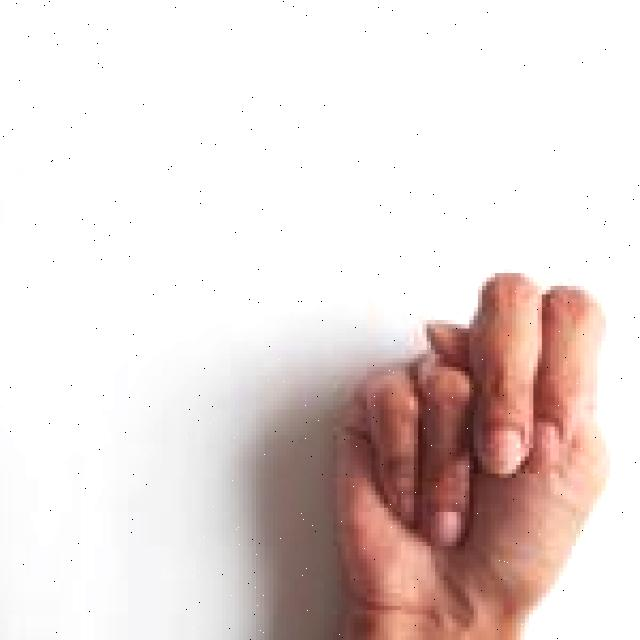N: (327, 264, 612, 640)
